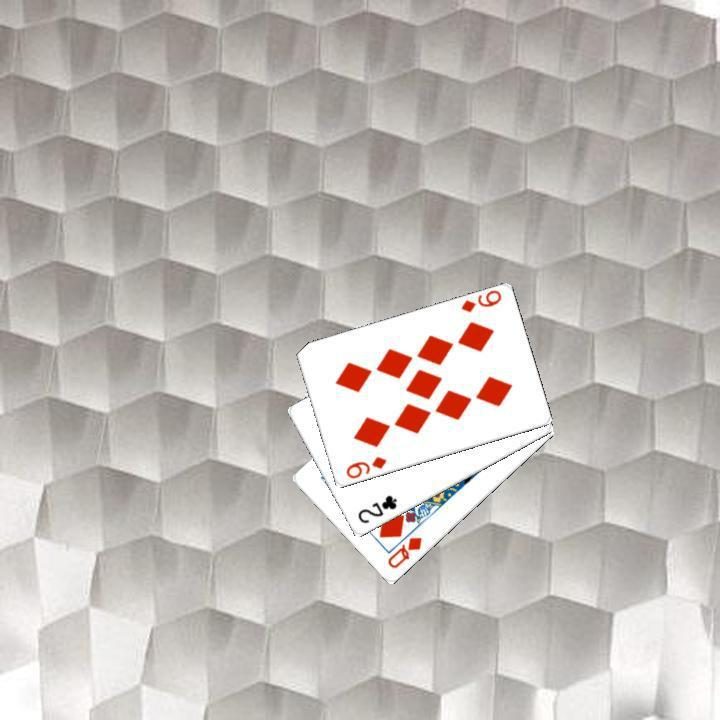2: (353, 491, 399, 526)
9: (341, 452, 388, 481), (456, 287, 503, 315)
Q: (383, 533, 424, 571)
